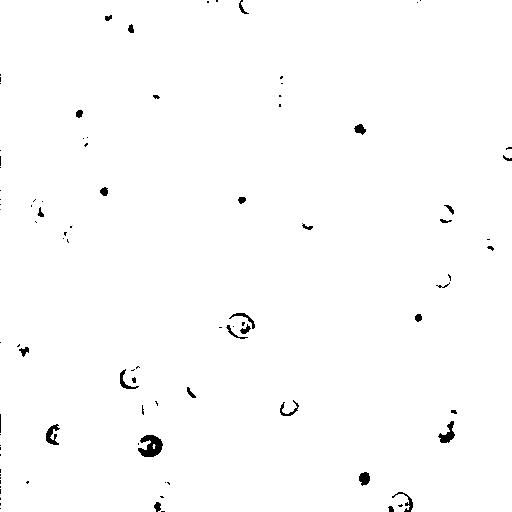micro-algae: (2, 58, 108, 170), (86, 440, 192, 511), (310, 72, 395, 159), (434, 69, 511, 150), (101, 375, 154, 429), (259, 0, 317, 43), (1, 42, 29, 127), (30, 326, 75, 370), (65, 0, 135, 24), (34, 222, 74, 262), (68, 486, 132, 511), (110, 314, 150, 353), (288, 203, 329, 240), (431, 403, 466, 446), (340, 111, 378, 150), (120, 358, 160, 393), (1, 158, 25, 216), (222, 461, 259, 497), (4, 402, 41, 437), (471, 235, 504, 270), (26, 194, 60, 226), (74, 135, 108, 165), (65, 99, 97, 129), (402, 303, 432, 332), (268, 64, 297, 94), (227, 311, 256, 340), (9, 340, 35, 368), (136, 434, 164, 460), (247, 400, 275, 426), (90, 180, 119, 204), (119, 366, 148, 390), (142, 492, 175, 512), (430, 266, 456, 291), (58, 220, 85, 244), (386, 490, 415, 512), (45, 422, 70, 447), (156, 473, 179, 500), (411, 0, 440, 21), (8, 470, 36, 491), (122, 18, 143, 45), (244, 272, 265, 297), (98, 4, 120, 26), (184, 380, 206, 400), (436, 203, 455, 225), (280, 398, 300, 418), (271, 93, 290, 114), (142, 397, 160, 419), (236, 0, 259, 16), (352, 469, 372, 487), (167, 0, 194, 13), (503, 111, 512, 143), (437, 68, 452, 83), (234, 194, 250, 207), (201, 0, 223, 8), (503, 145, 512, 162)
